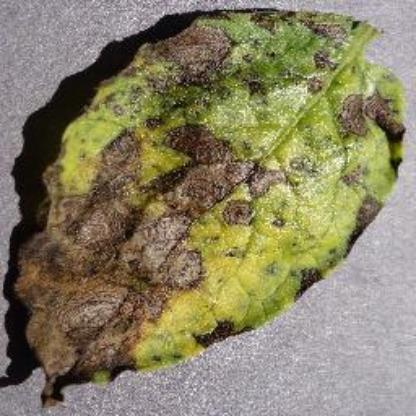Early-Blight: (14, 9, 406, 399)
